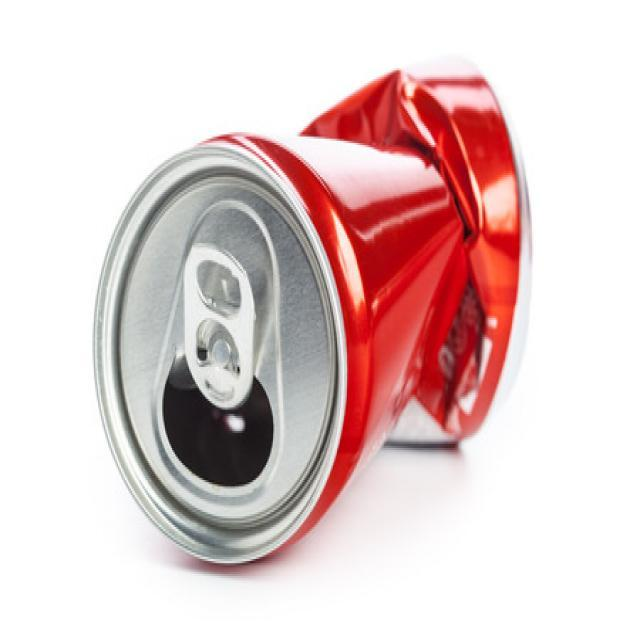can: (86, 33, 551, 594)
